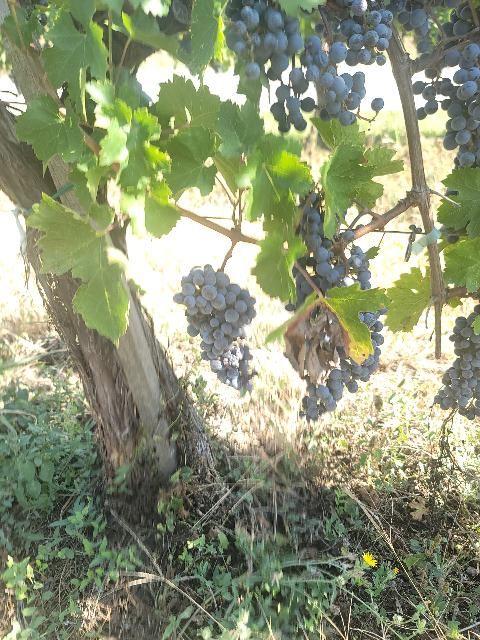grapes: (174, 265, 256, 390), (225, 0, 304, 81), (305, 35, 365, 126), (434, 304, 480, 420), (340, 0, 394, 66), (270, 68, 308, 132)
